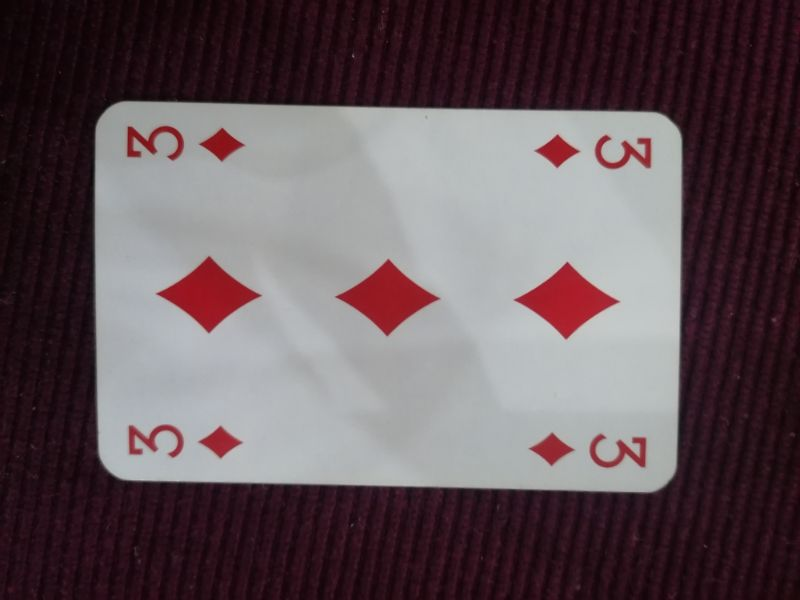3d: (529, 129, 657, 177), (124, 121, 251, 166), (122, 421, 248, 463), (528, 429, 650, 472)
